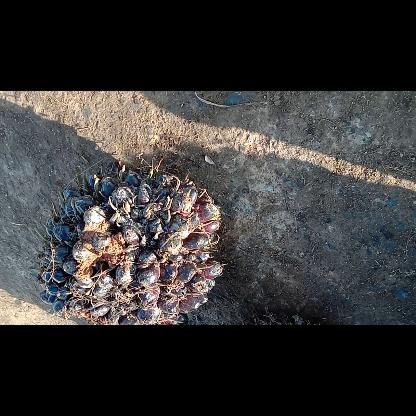TBS mentah: (36, 160, 226, 324)
